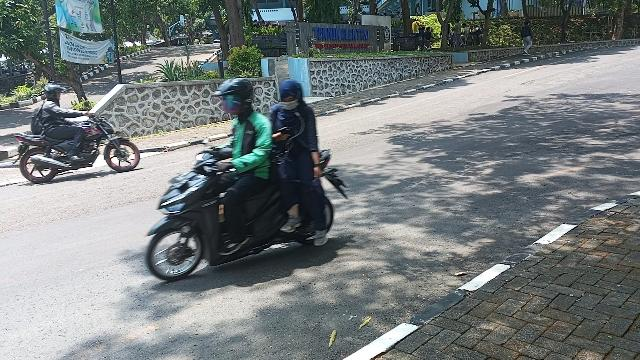helm: (213, 78, 258, 118), (44, 83, 69, 103)
motor: (146, 137, 352, 283), (14, 112, 143, 186)
non-helm: (277, 80, 305, 112)
